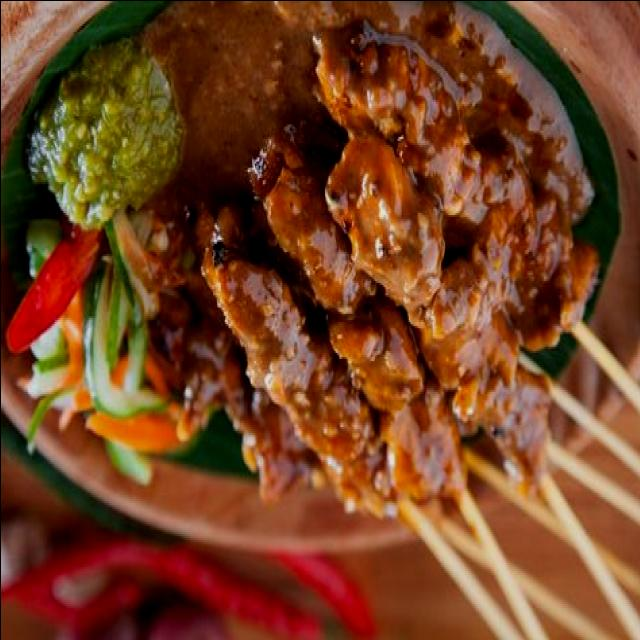sate: (113, 0, 640, 640)
